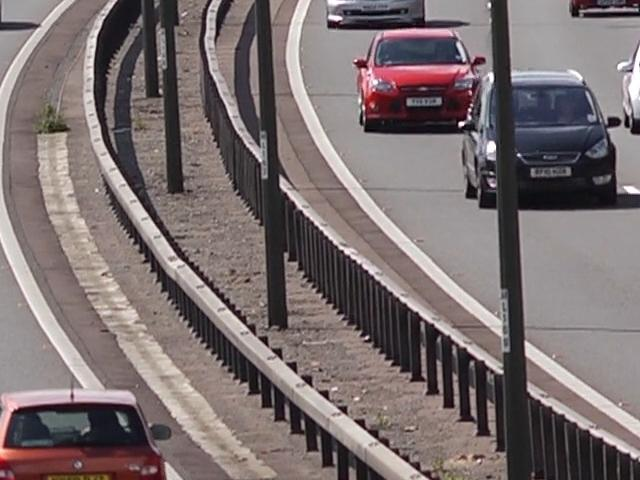car: (465, 68, 617, 215), (0, 381, 181, 480), (353, 25, 488, 140), (326, 0, 429, 26), (558, 0, 640, 23)
